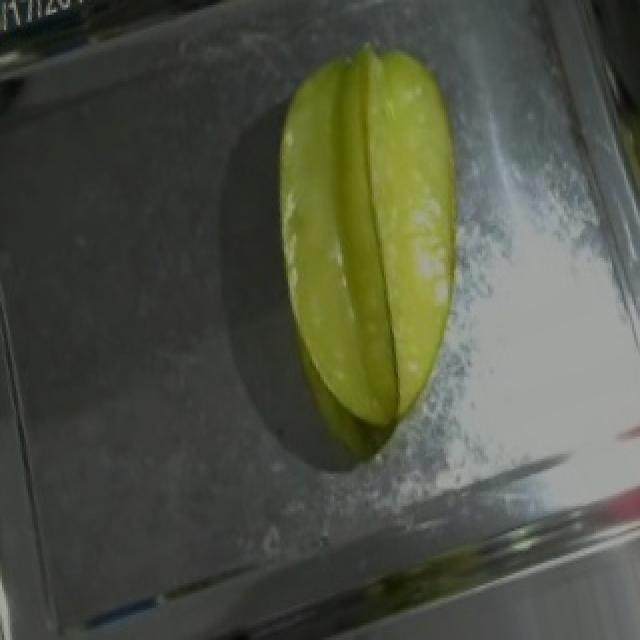fruit: (244, 15, 528, 432)
